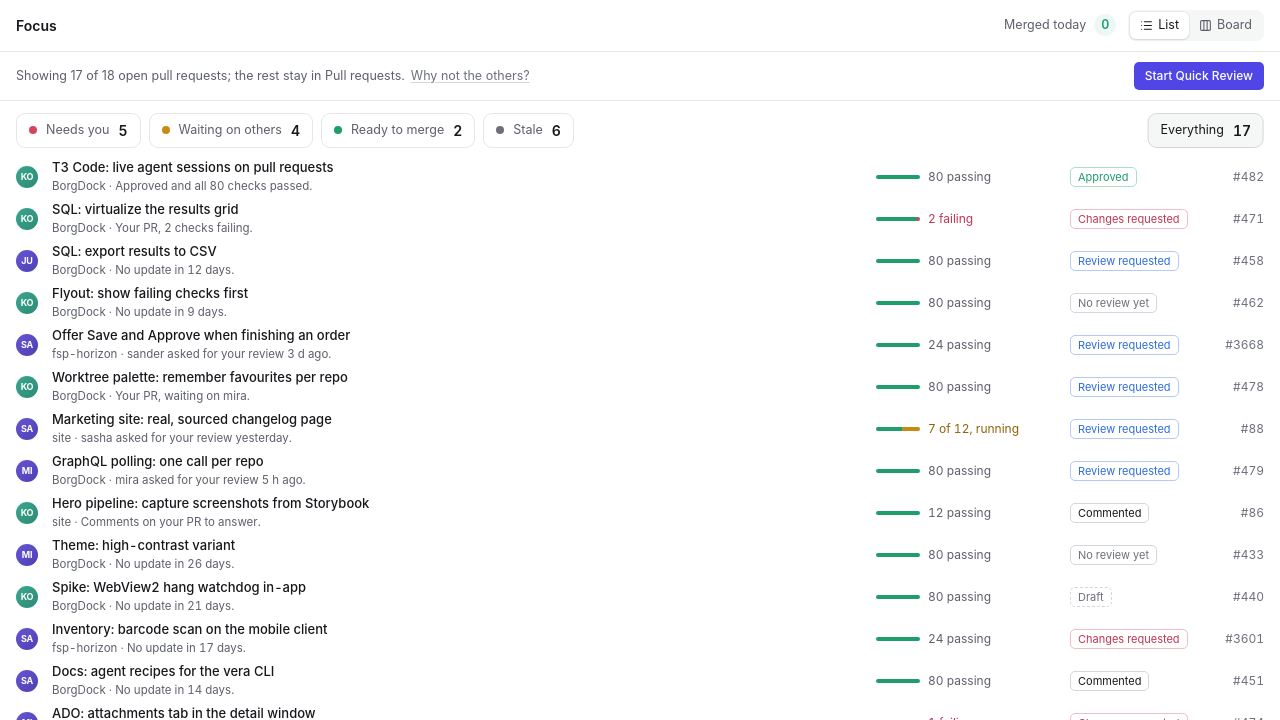
Test: Workbench Focus › the List / Board toggle switches the layout and saves it
The width and height of the screenshot is (1280, 720).
Click the button "Board" at (1226, 25), box [1189,12,1262,39]
Wait 600 ms
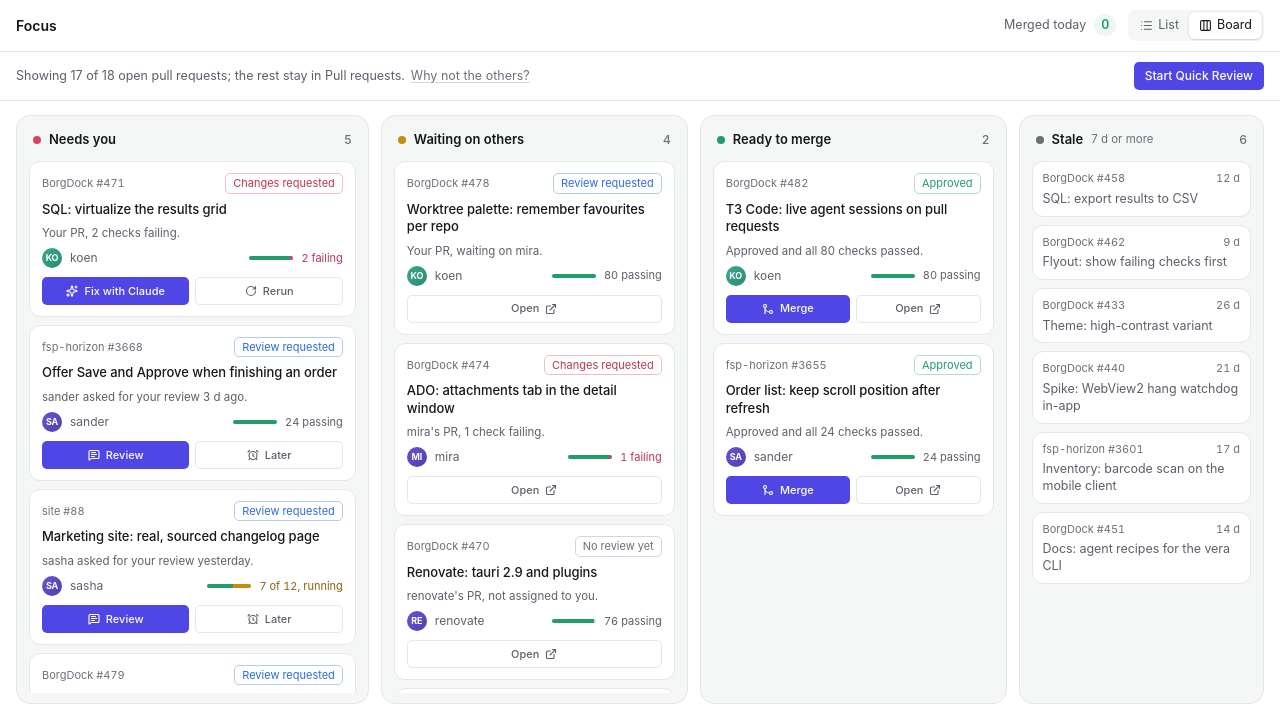
Expected: the element that starts with "Needs you" is shown
Expected: the element with class "bd-focus-list" is gone
